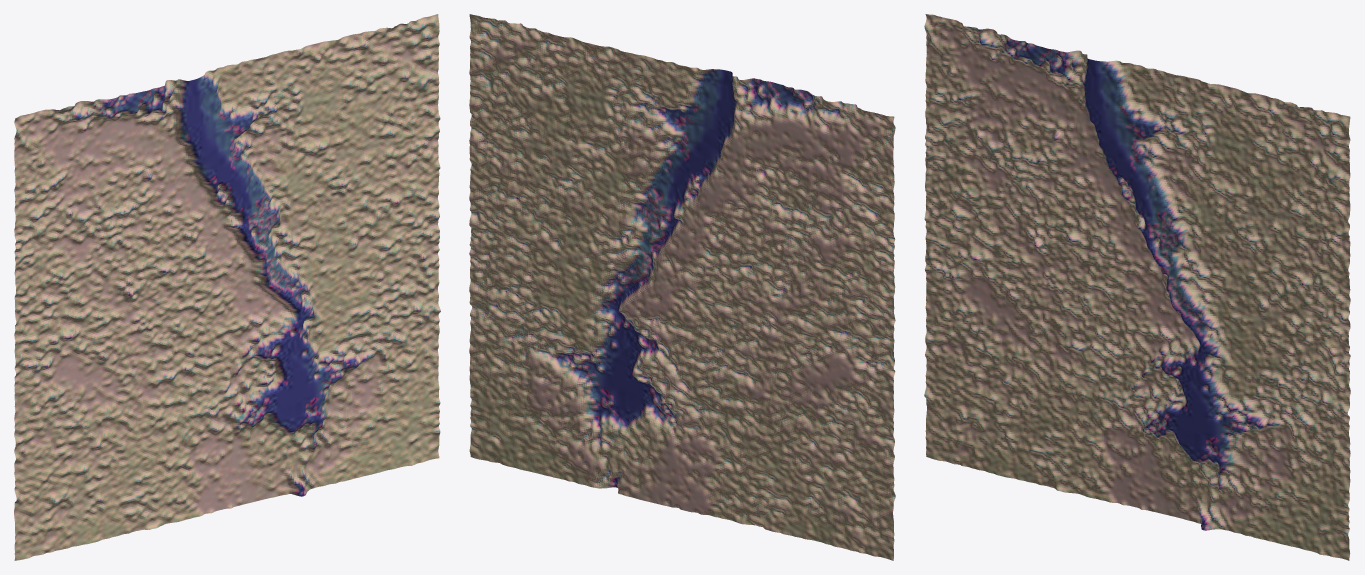
The picture shows the model from 3 angles, left to right: view 1: azimuth 30°, elevation 25°; view 2: azimuth 150°, elevation 25°; view 3: azimuth 330°, elevation 25°; orthographic projection.
Parts seen in each view (by area): view 1: world; view 2: world; view 3: world.
Part boxes in pixels (<box>): world: <box>14,14,440,560</box>; world: <box>469,14,895,560</box>; world: <box>924,14,1350,560</box>.
Size of the model in its own units: 299 by 299 by 8.54.
